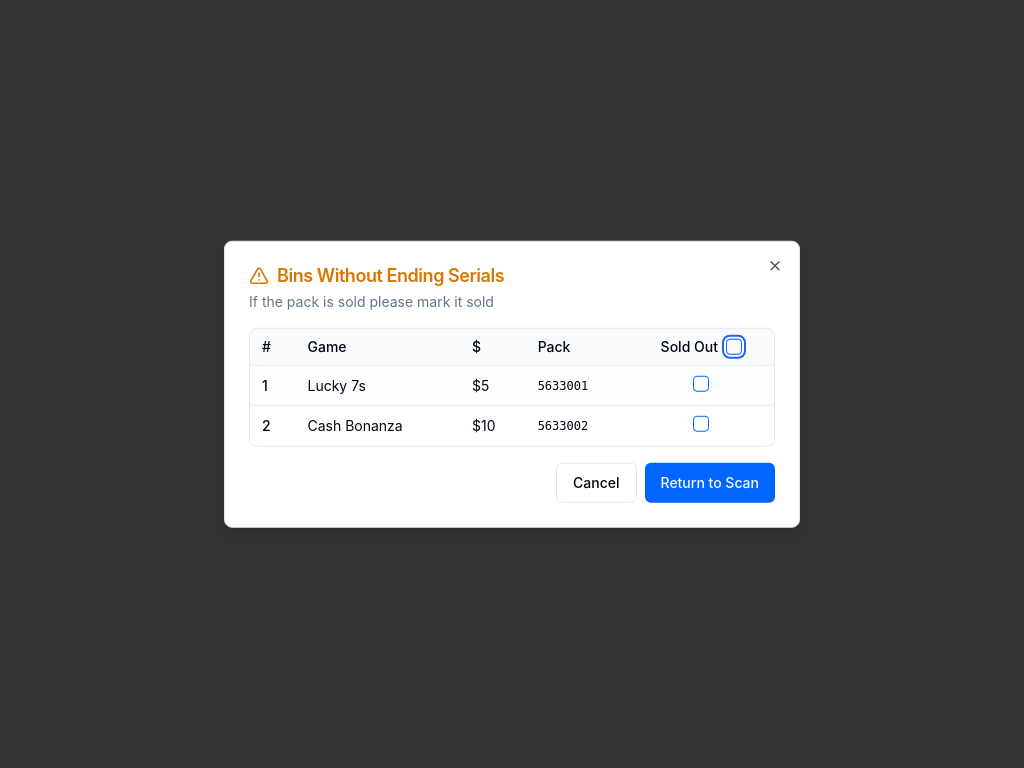
Test case: UnscannedBinWarningModal › Select All Functionality › should select all bins when Select All is clicked
// Click Select All
Click the checkbox with test id "select-all-sold-out".
click(734, 347)  # box [726,339,742,355]
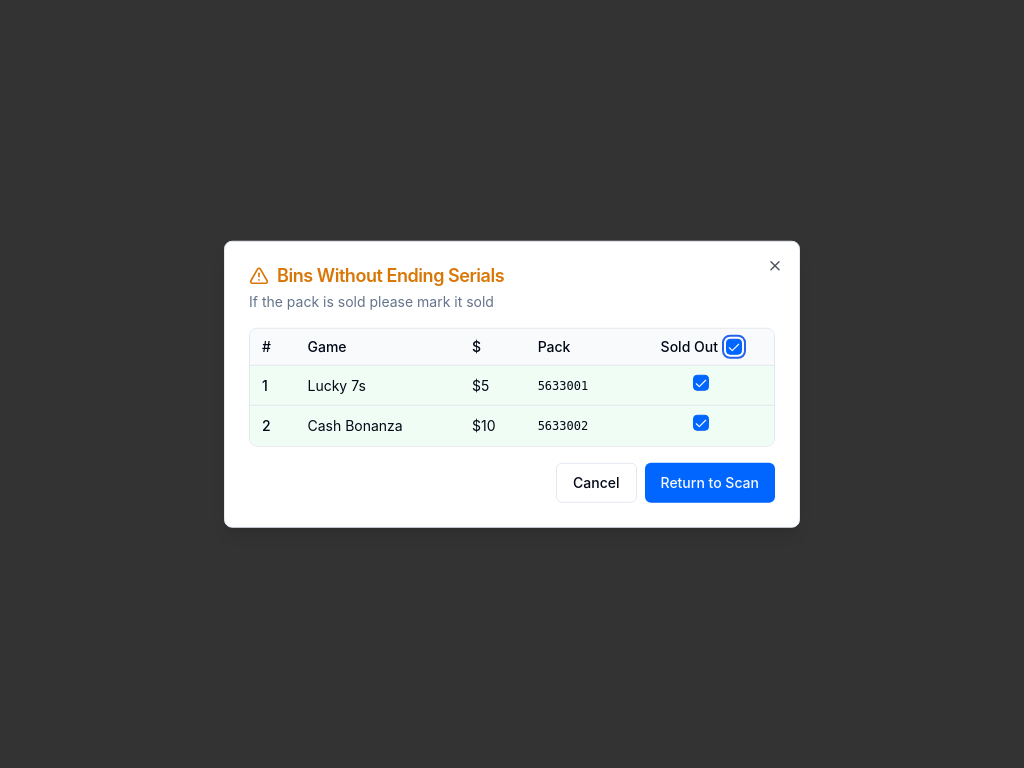
Now the checkbox with test id "bin-sold-out-bin-1" is checked, box [693,374,709,390]
Now the checkbox with test id "bin-sold-out-bin-2" is checked, box [693,414,709,430]
